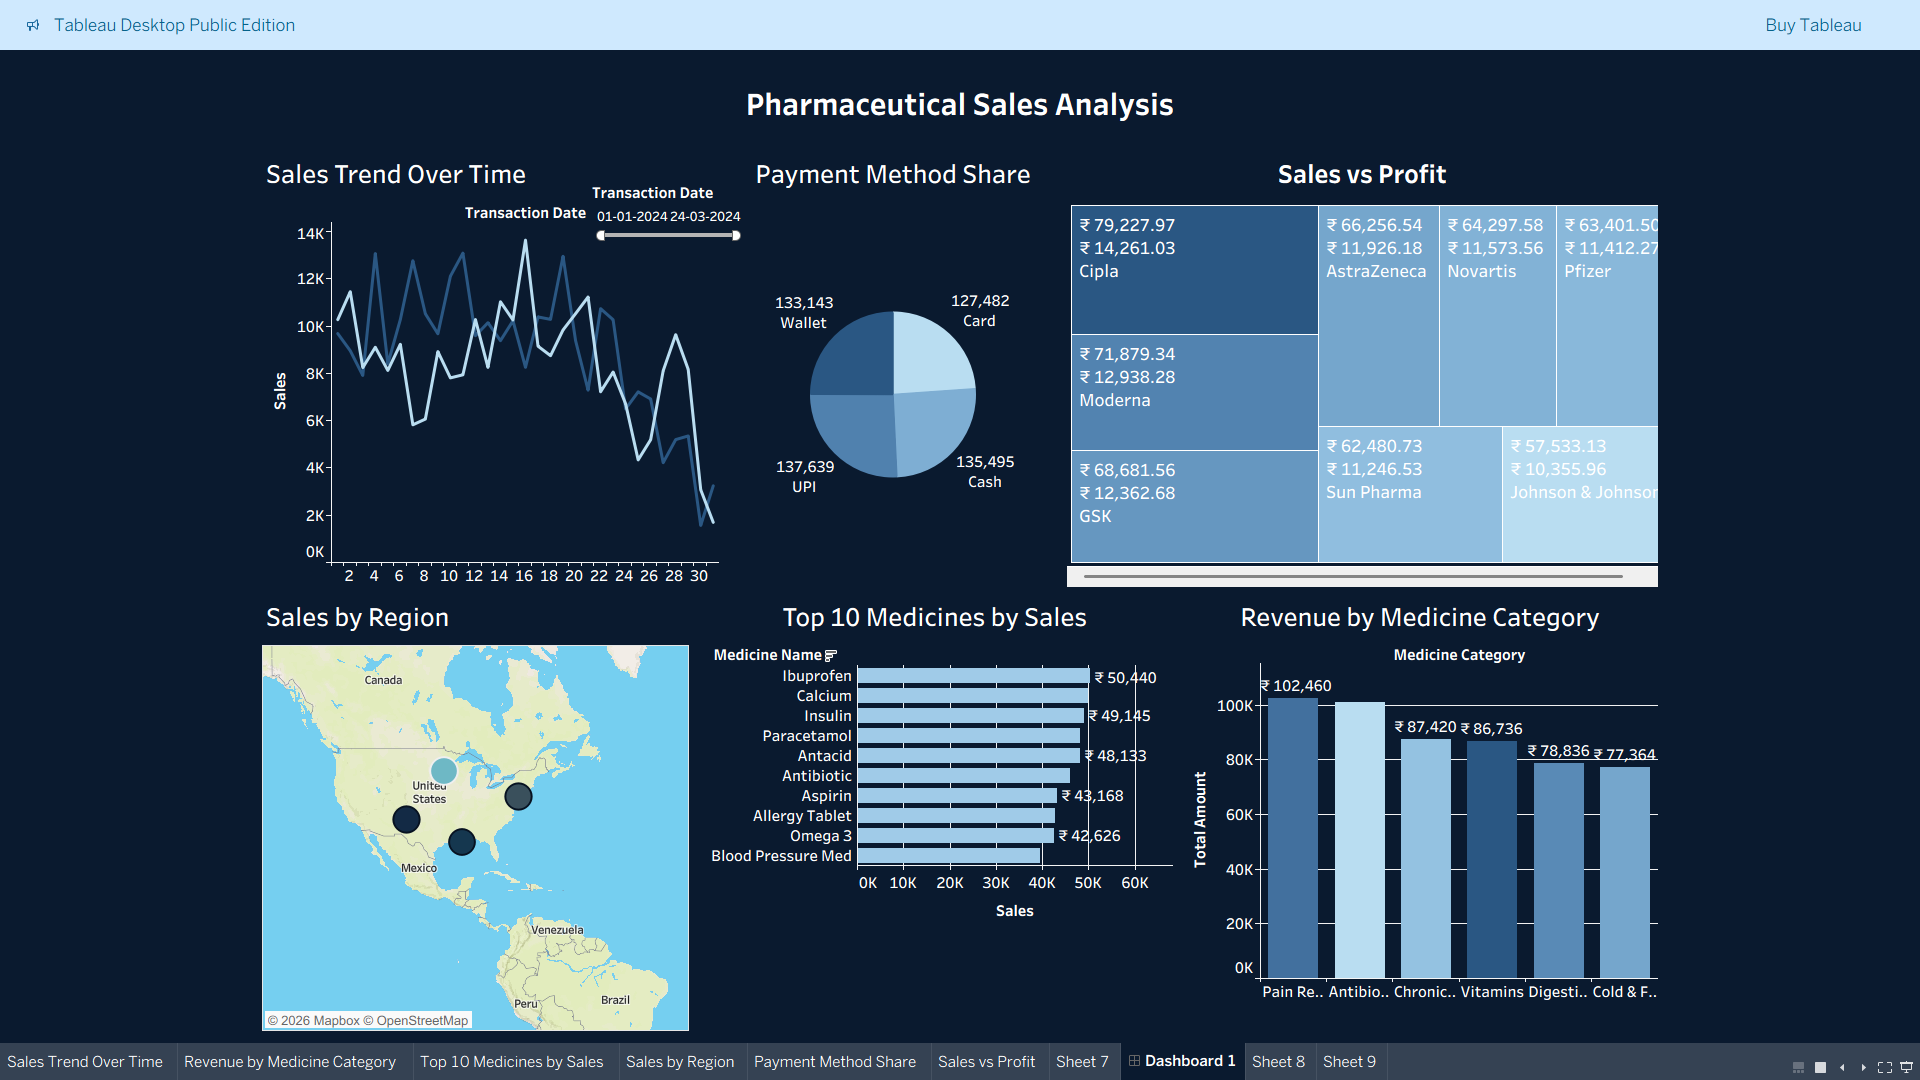

This screenshot's page, from the dashboard's own definition file:
{"tool":"tableau","page":{"name":"Dashboard 1","canvas":[1000,1000],"units":"permille","ordinal":0},"visuals":[{"type":"title","box":[5.6,10,988.7,112.2]},{"type":"worksheet","title":"Sales Trend Over Time","mark":"Automatic","rows":["Calculation_1428204044400726020"],"cols":["transaction_date"],"box":[5.6,122.2,327.5,433.2]},{"type":"worksheet","title":"Payment Method Share","mark":"Pie","box":[333.1,122.2,239.4,433.2]},{"type":"worksheet","title":"Sheet 9","mark":"Square","box":[572.5,122.2,421.8,433.2]},{"type":"filter","title":"Sales Trend Over Time","param":"[federated.13m1rtu1a32o6g109g8m51tz3snh].[none:transaction_date:qk]","box":[240.8,133.4,107.8,79.8]},{"type":"worksheet","title":"Sales by Region","mark":"Automatic","rows":["Calculation_1428204044409700362"],"cols":["Calculation_1428204044409810955"],"box":[5.6,555.4,306.3,434.6]},{"type":"worksheet","title":"Top 10 Medicines by Sales","mark":"Bar","rows":["medicine_name"],"cols":["Calculation_1428204044400726020"],"box":[312,555.4,341.2,434.6]},{"type":"worksheet","title":"Revenue by Medicine Category","mark":"Bar","rows":["total_amount"],"cols":["medicine_category"],"box":[653.2,555.4,341.2,434.6]}]}

Visuals, with their boxes on the dashboard's canvas, which has no fixed pixel size, in thousandths of its width and height (x1, y1, x2, y2). These are canvas units, not pixel positions in the 1920x1080 screenshot, which may show the page scaled, cropped or inside an application window:
title: (6, 10, 994, 122)
"Sales Trend Over Time" worksheet: (6, 122, 333, 555)
"Payment Method Share" worksheet (Pie marks): (333, 122, 572, 555)
"Sheet 9" worksheet (Square marks): (572, 122, 994, 555)
"Sales Trend Over Time" filter: (241, 133, 349, 213)
"Sales by Region" worksheet: (6, 555, 312, 990)
"Top 10 Medicines by Sales" worksheet (Bar marks): (312, 555, 653, 990)
"Revenue by Medicine Category" worksheet (Bar marks): (653, 555, 994, 990)
